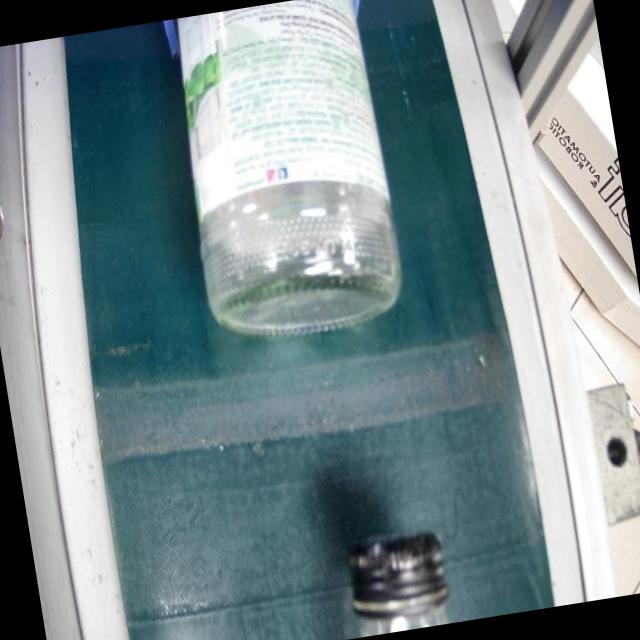BotolKaca: (162, 0, 412, 351)
